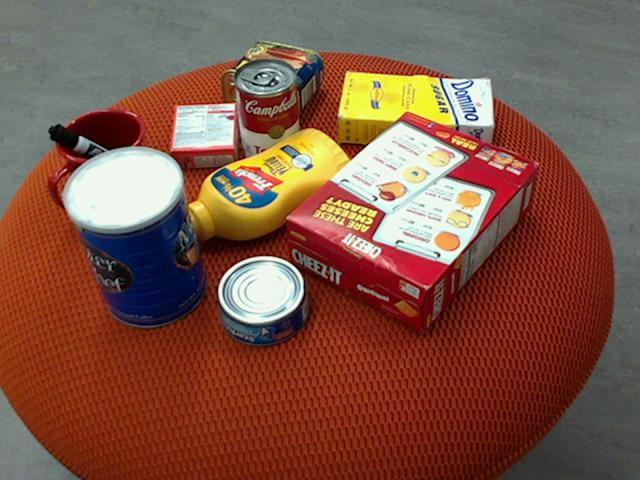cracker_box: (286, 110, 540, 330)
gelatin_box: (168, 101, 238, 169)
large_marker: (47, 124, 151, 187)
master_chef_can: (59, 147, 207, 328)
mug: (50, 108, 154, 215)
mustard_bottle: (172, 128, 356, 240)
potted_meat_can: (221, 41, 324, 123)
sugar_box: (337, 72, 495, 149)
tomato_soup_can: (233, 57, 299, 167)
tuna_fish_can: (217, 256, 310, 347)
